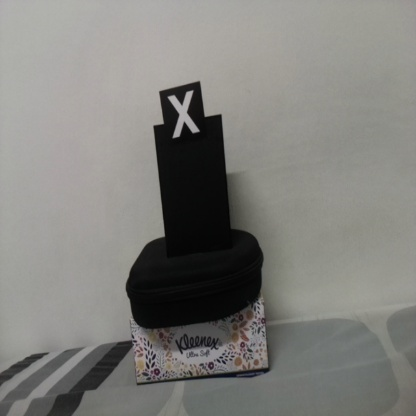id_13: (159, 90, 205, 146)
